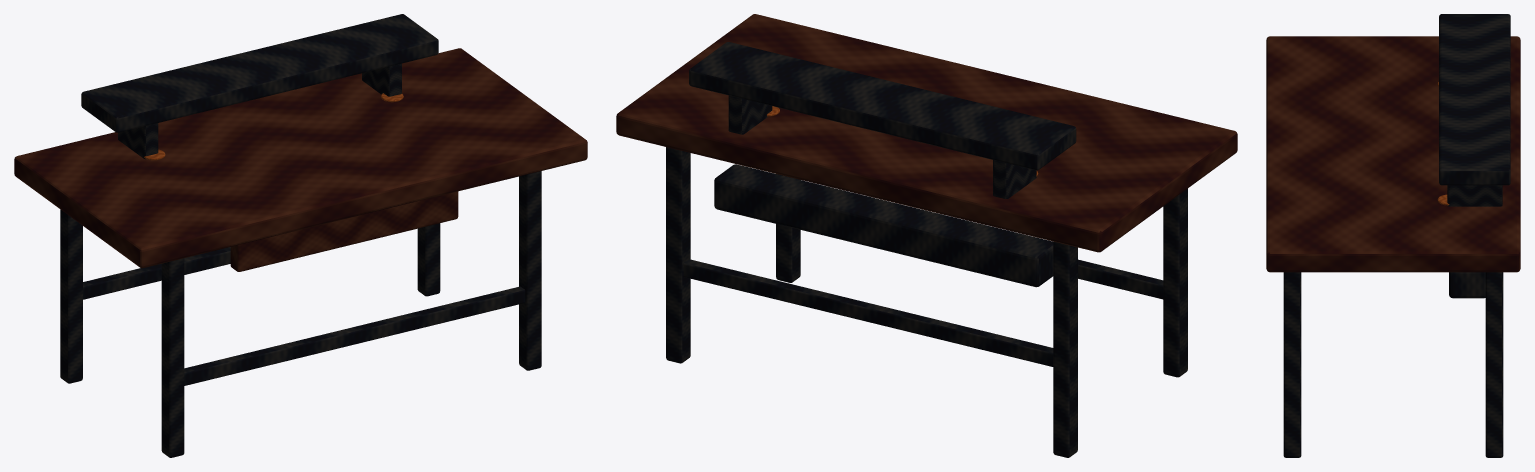
File: computer-desk-pbr-v1.glb
The picture shows the model from 3 angles, left to right: view 1: azimuth 30°, elevation 25°; view 2: azimuth 150°, elevation 25°; view 3: azimuth 270°, elevation 25°; orthographic projection. The views are drawn at different scales.
Visible parts, largest first — view 1: computer-desk-top, computer-desk-monitor-shelf, computer-desk-slim-drawer, computer-desk-front-crossbar, computer-desk-square-leg.001, computer-desk-square-leg.003, computer-desk-square-leg.002, computer-desk-back-crossbar, computer-desk-square-leg, computer-desk-monitor-riser-left, computer-desk-monitor-riser-right; view 2: computer-desk-top, computer-desk-monitor-shelf, computer-desk-cable-tray, computer-desk-back-crossbar, computer-desk-square-leg.002, computer-desk-square-leg, computer-desk-square-leg.001, computer-desk-front-crossbar, computer-desk-square-leg.003, computer-desk-monitor-riser-right, computer-desk-monitor-riser-left; view 3: computer-desk-top, computer-desk-monitor-shelf, computer-desk-square-leg.003, computer-desk-square-leg, computer-desk-monitor-riser-right, computer-desk-cable-tray.
Part boxes in pixels (box(x1,y1,x2,y2)): computer-desk-top: box(14, 48, 587, 268); computer-desk-monitor-shelf: box(81, 14, 438, 132); computer-desk-slim-drawer: box(230, 191, 458, 271); computer-desk-front-crossbar: box(184, 286, 525, 385); computer-desk-square-leg.001: box(161, 258, 184, 457); computer-desk-square-leg.003: box(519, 171, 541, 370); computer-desk-square-leg.002: box(60, 209, 82, 383); computer-desk-back-crossbar: box(83, 247, 230, 299); computer-desk-square-leg: box(417, 223, 440, 296); computer-desk-monitor-riser-left: box(118, 123, 158, 159); computer-desk-monitor-riser-right: box(362, 63, 401, 96); computer-desk-top: box(616, 14, 1237, 252); computer-desk-monitor-shelf: box(689, 42, 1076, 170); computer-desk-cable-tray: box(714, 164, 1053, 287); computer-desk-back-crossbar: box(683, 259, 1053, 366); computer-desk-square-leg.002: box(1053, 241, 1077, 457); computer-desk-square-leg: box(666, 147, 690, 363); computer-desk-square-leg.001: box(1163, 188, 1187, 377); computer-desk-front-crossbar: box(1078, 259, 1163, 299); computer-desk-square-leg.003: box(776, 174, 800, 282); computer-desk-monitor-riser-right: box(728, 95, 772, 134); computer-desk-monitor-riser-left: box(993, 160, 1036, 198); computer-desk-top: box(1266, 36, 1520, 272); computer-desk-monitor-shelf: box(1439, 14, 1510, 185); computer-desk-square-leg.003: box(1283, 272, 1301, 457); computer-desk-square-leg: box(1485, 272, 1503, 457); computer-desk-monitor-riser-right: box(1447, 185, 1502, 206); computer-desk-cable-tray: box(1449, 272, 1485, 298).
Bounding box in the file's own units: 1.58 × 0.9375 × 0.78.
Materials: 3 (3 with a texture image).
